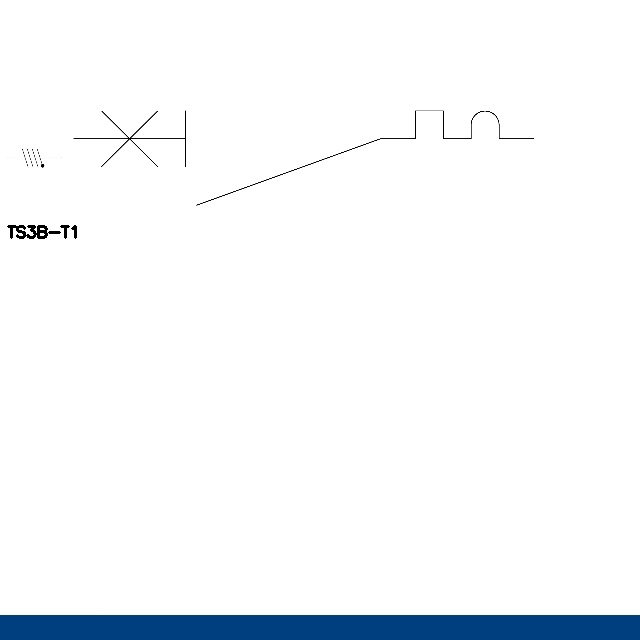interruptor_termomagnetico: (61, 99, 545, 217)
